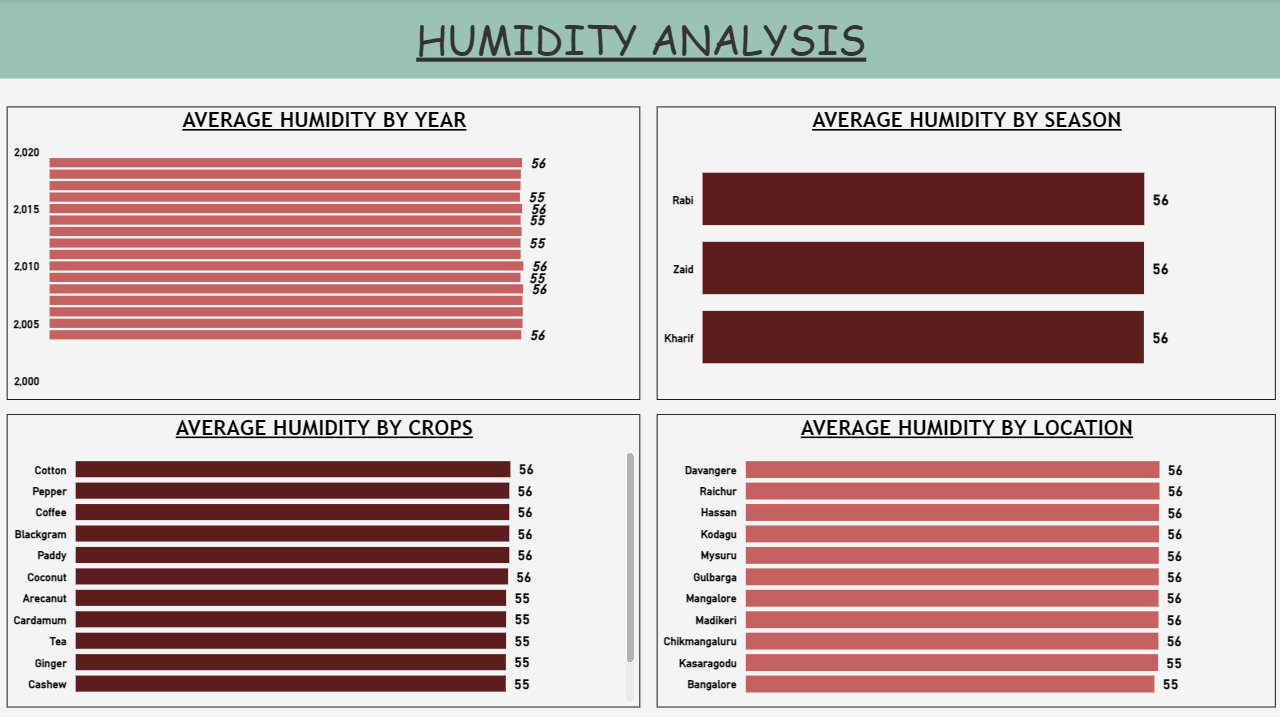

Layout of this report page (visuals, bound fields, positions):
{"tool":"powerbi","page":{"name":"HUMIDITY ANALYSIS","canvas":[1280,720],"ordinal":2},"visuals":[{"type":"shape","box":[0,0,1280.3,79.6],"z":0},{"type":"barChart","title":"AVERAGE HUMIDITY BY YEAR","fields":{"Category":["AGRICULTURE.YEAR"],"Y":["Avg(AGRICULTURE.HUMIDITY)"]},"box":[8.7,107,630.7,292.3],"z":1000},{"type":"barChart","title":"AVERAGE HUMIDITY BY SEASON","fields":{"Y":["Avg(AGRICULTURE.HUMIDITY)"],"Category":["AGRICULTURE.SEASON"]},"box":[655.6,107,615.8,292.3],"z":2000},{"type":"barChart","title":"AVERAGE HUMIDITY BY CROPS","fields":{"Y":["Avg(AGRICULTURE.HUMIDITY)"],"Category":["AGRICULTURE.CROPS"]},"box":[8.7,413,630.7,292.3],"z":3000},{"type":"barChart","title":"AVERAGE HUMIDITY BY LOCATION","fields":{"Category":["AGRICULTURE.LOCATION"],"Y":["Avg(AGRICULTURE.HUMIDITY)"]},"box":[655.6,413,615.8,292.3],"z":4000}]}

Visuals, with their boxes in screenshot pixels (x1, y1, x2, y2), scaled from the page's 1280x720 canvas onto the 1280x717 screenshot:
shape: <region>0, 0, 1279, 79</region>
"AVERAGE HUMIDITY BY YEAR" barChart: <region>9, 107, 639, 398</region>
"AVERAGE HUMIDITY BY SEASON" barChart: <region>656, 107, 1271, 398</region>
"AVERAGE HUMIDITY BY CROPS" barChart: <region>9, 411, 639, 702</region>
"AVERAGE HUMIDITY BY LOCATION" barChart: <region>656, 411, 1271, 702</region>
